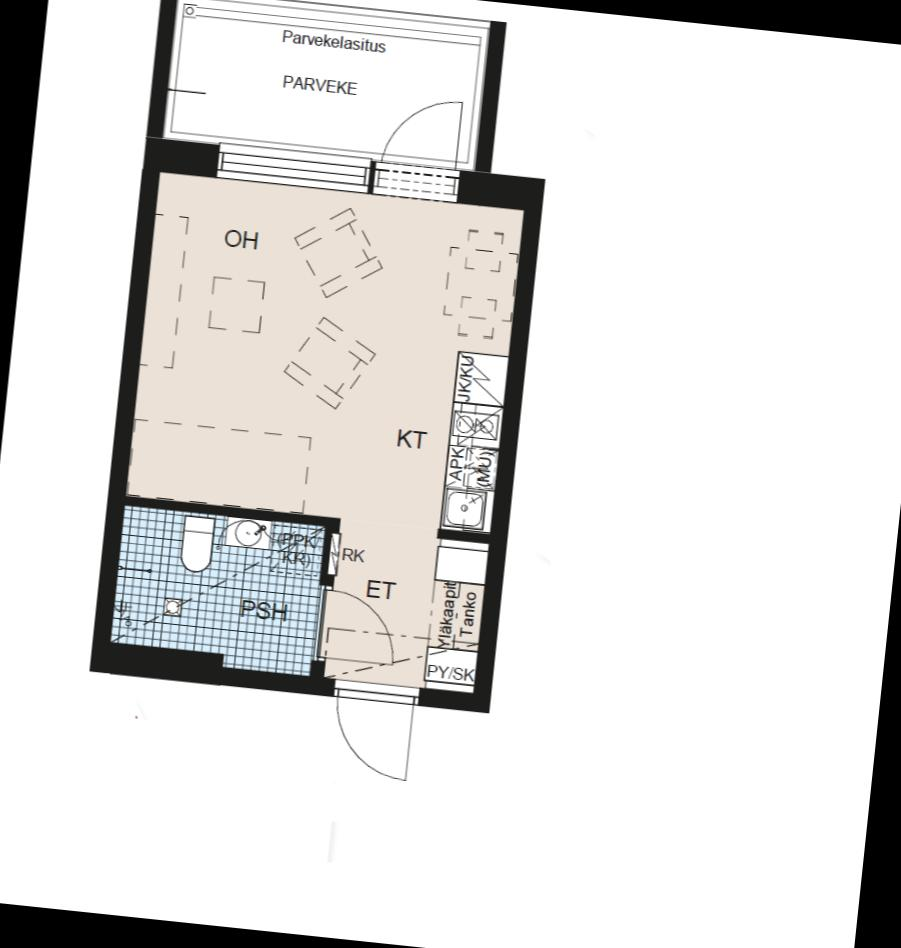door: (323, 679, 424, 784), (372, 88, 468, 189), (308, 584, 407, 674)
window: (206, 138, 376, 202)
